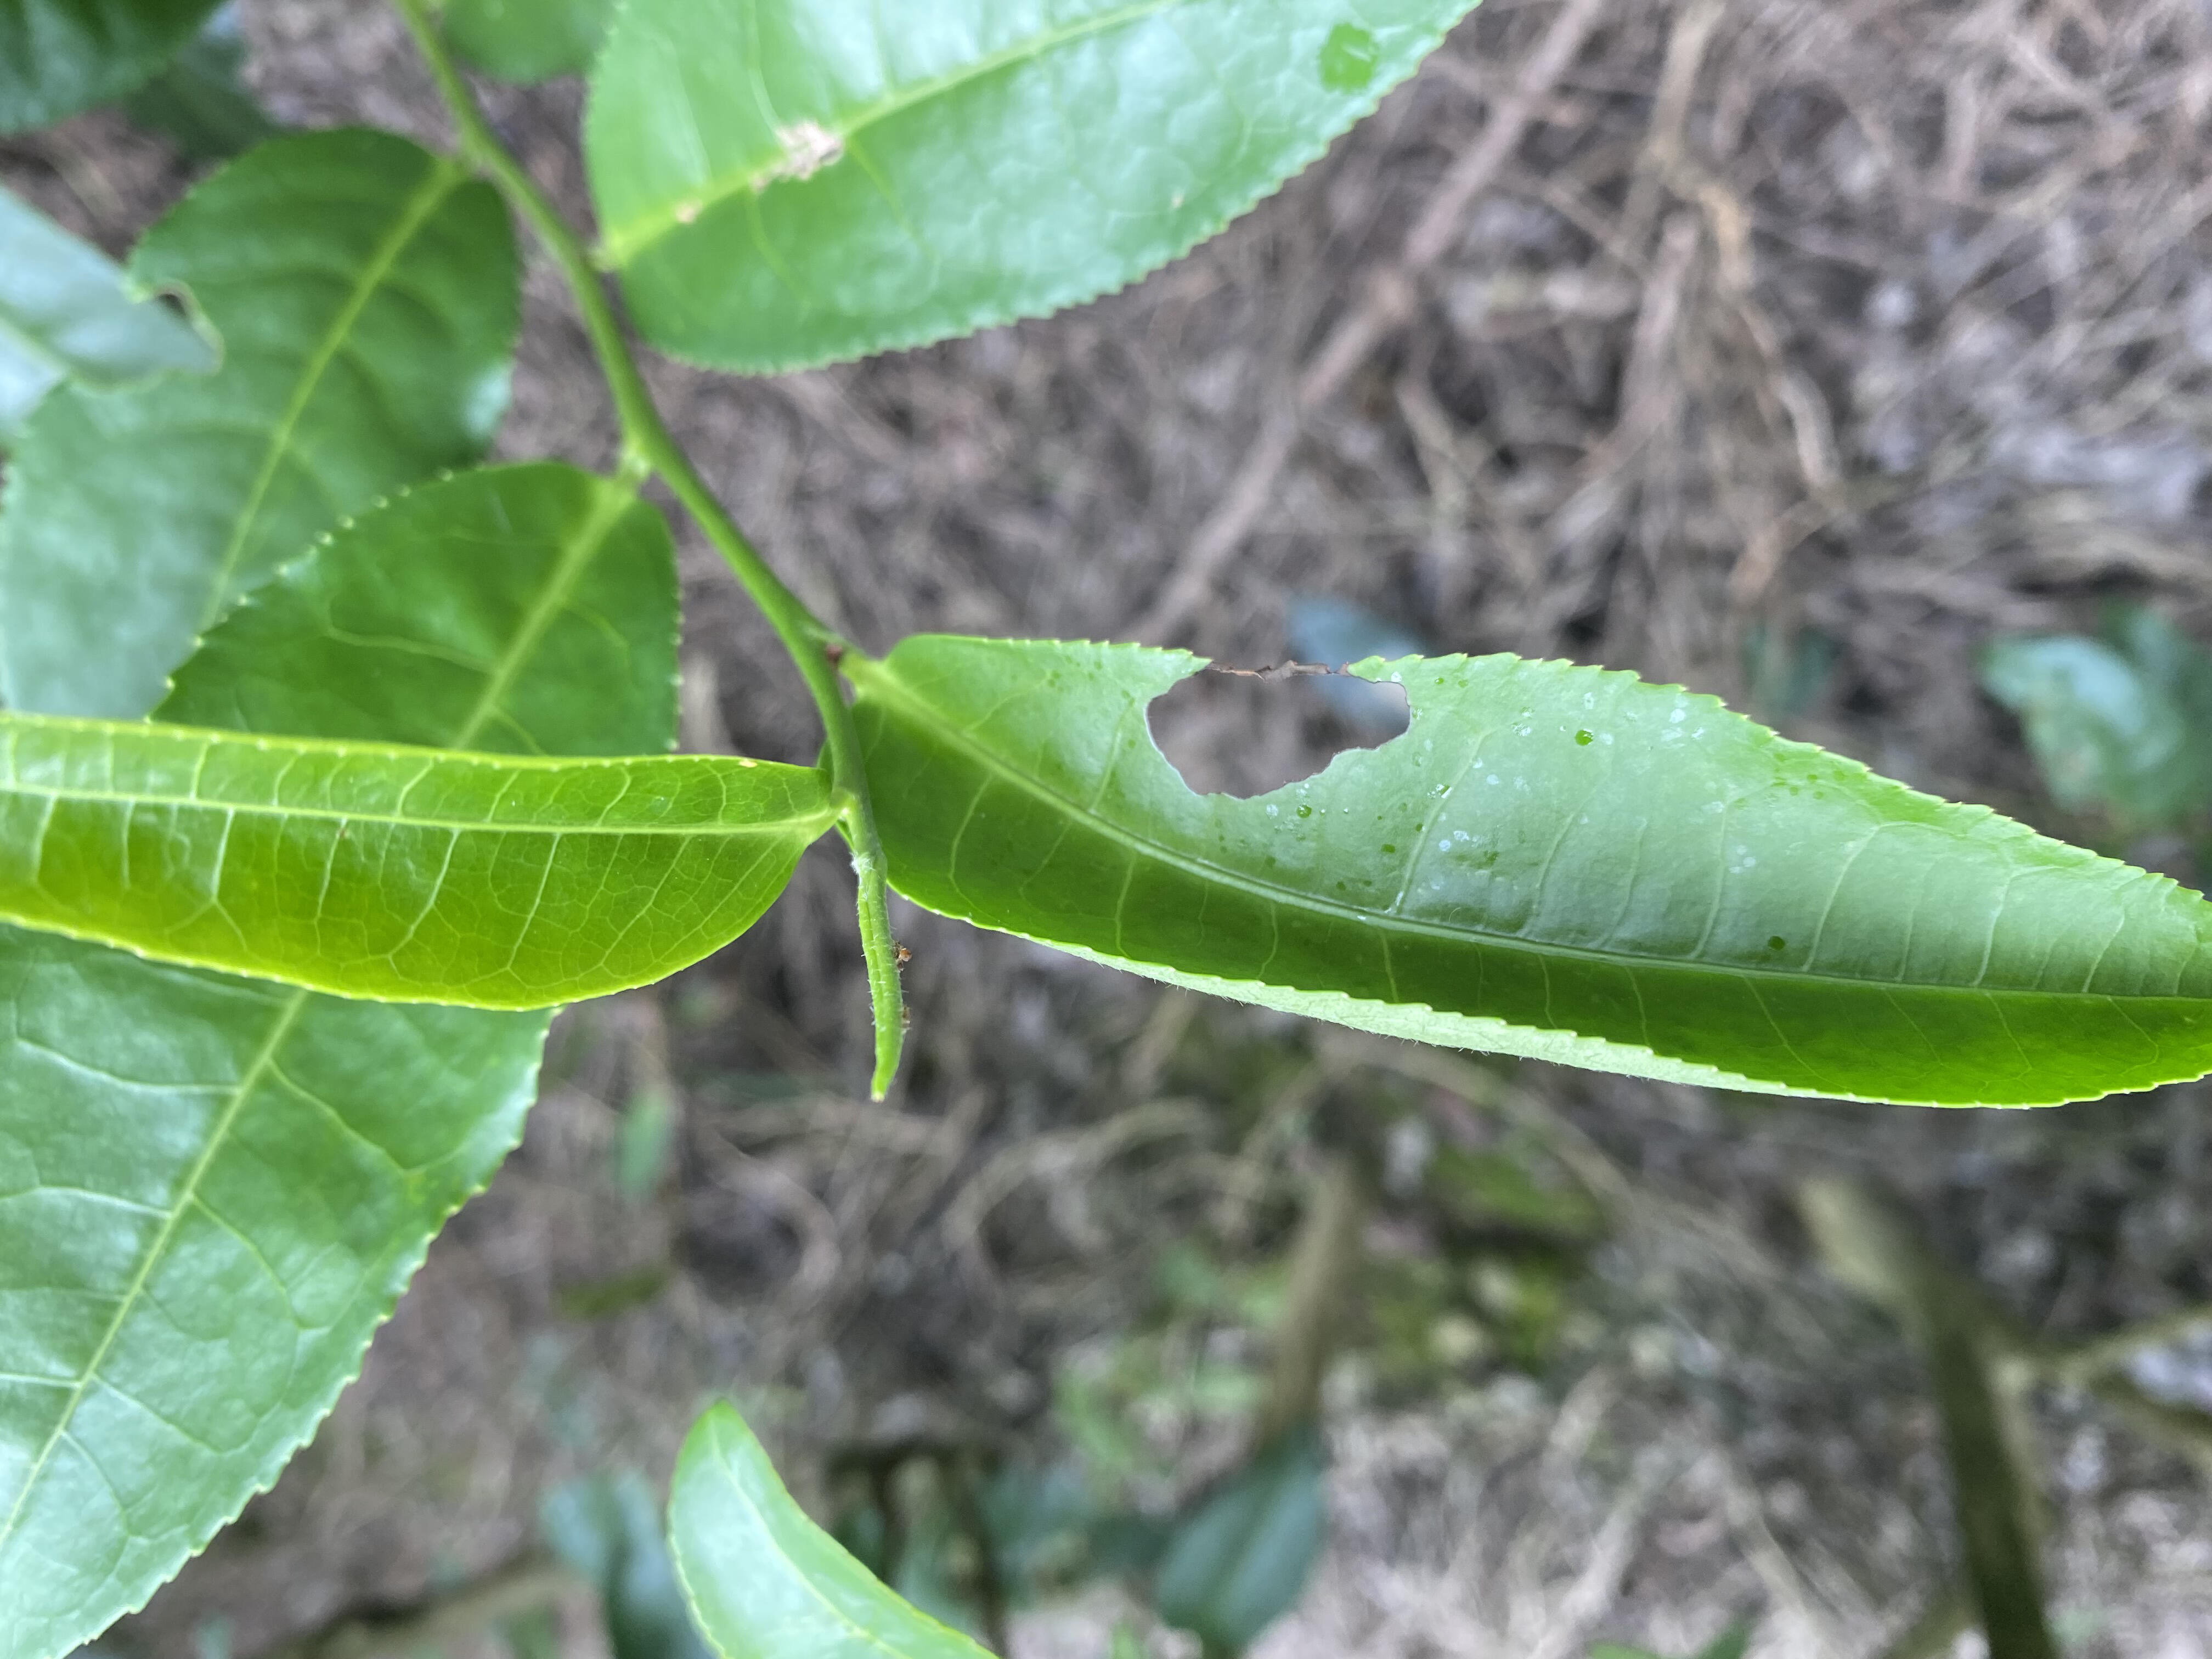chihuo_low: (822, 633, 2212, 1115)
healthy: (3, 713, 827, 1011)
tanju_low: (578, 2, 1496, 376)
